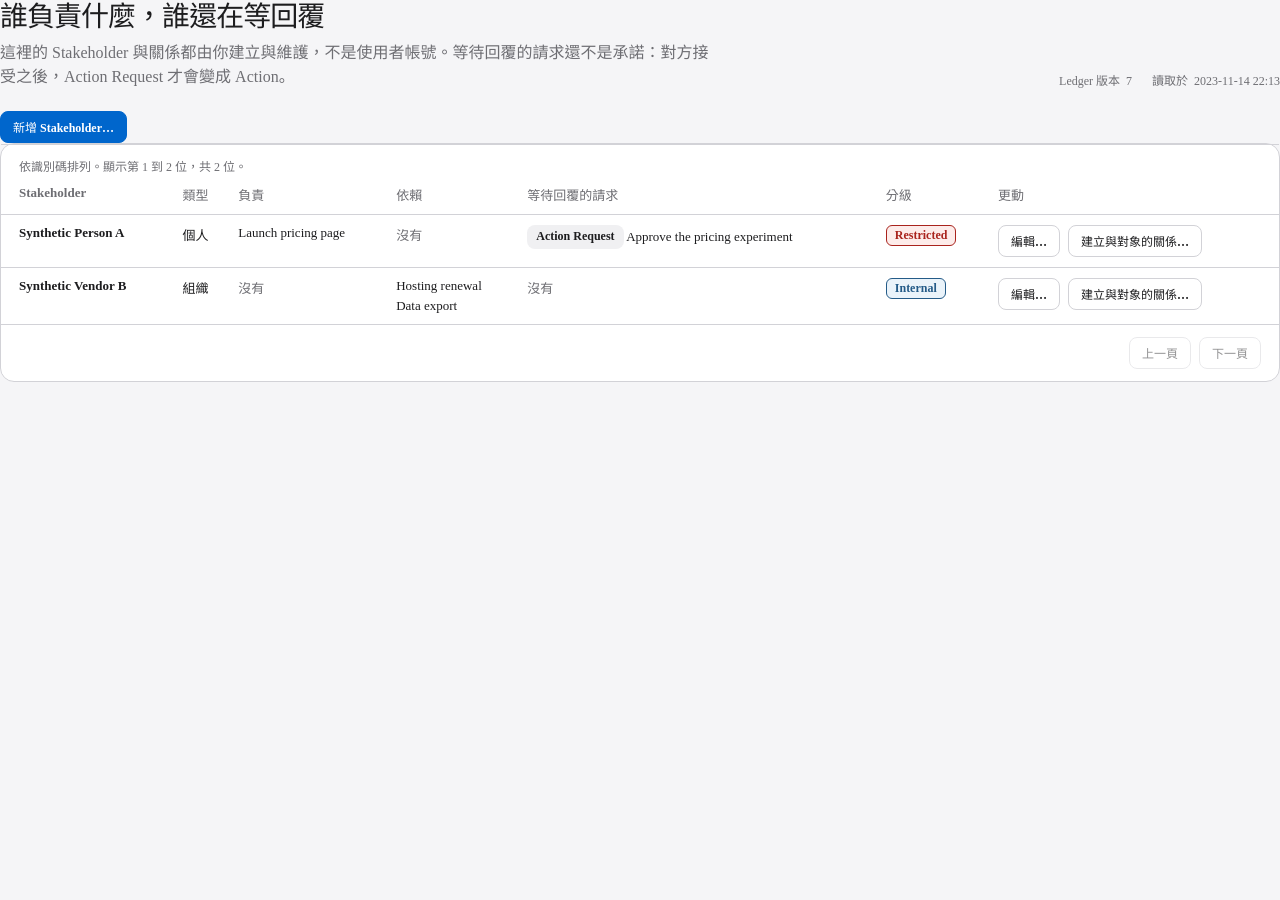
Test: People record entry (slice 6D) › relates a Stakeholder to a subject of a chosen kind at both versions
Check: the table is shown, box [1,145,1279,324]
Click the button "建立與對象的關係…" in the row of "Synthetic Person A". click: (1135, 241)
box: [1068,225,1202,257]
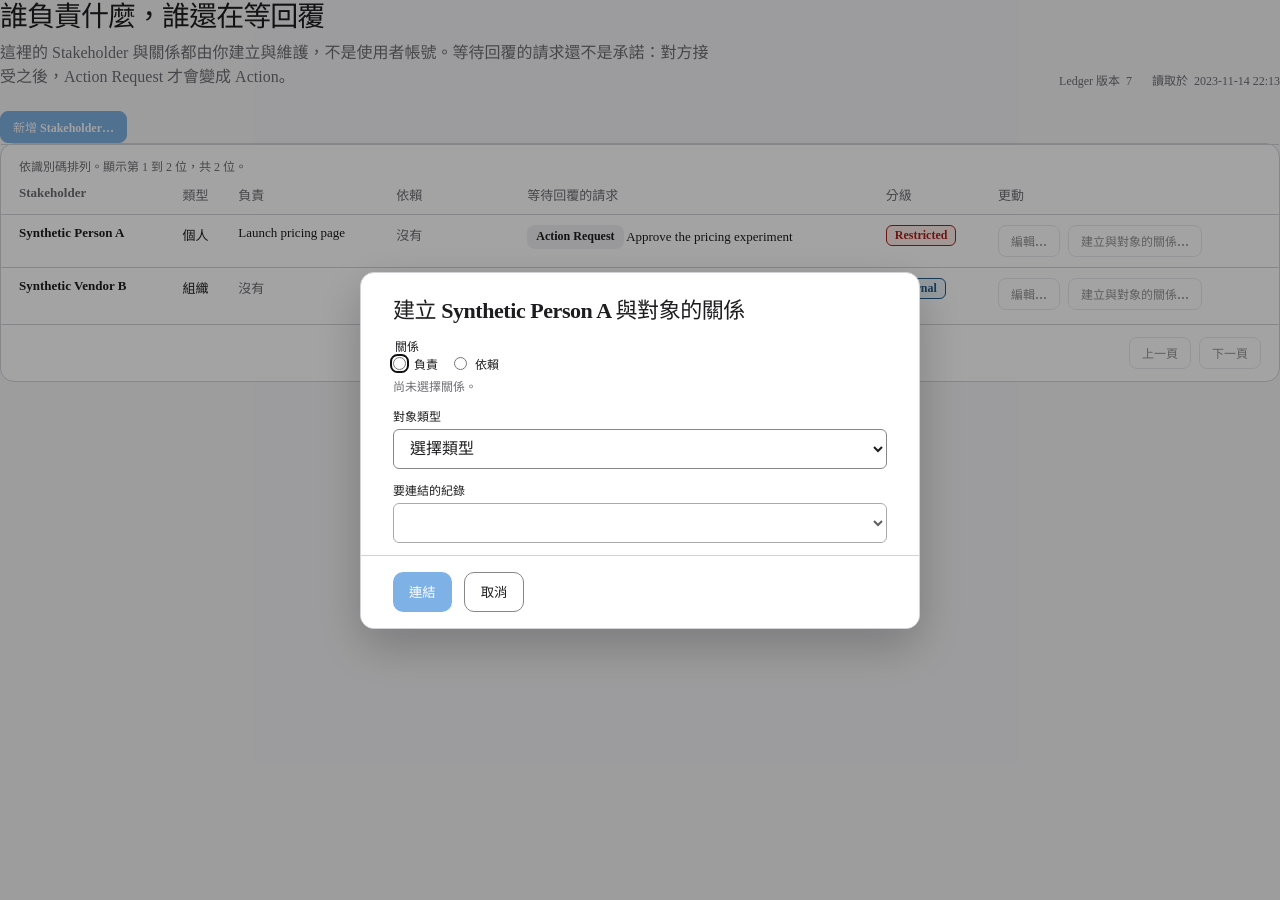
Check: the button "連結" is disabled, box [393,572,452,612]
Click the radio button labelled "依賴". click: (460, 364)
box: [454,357,467,370]
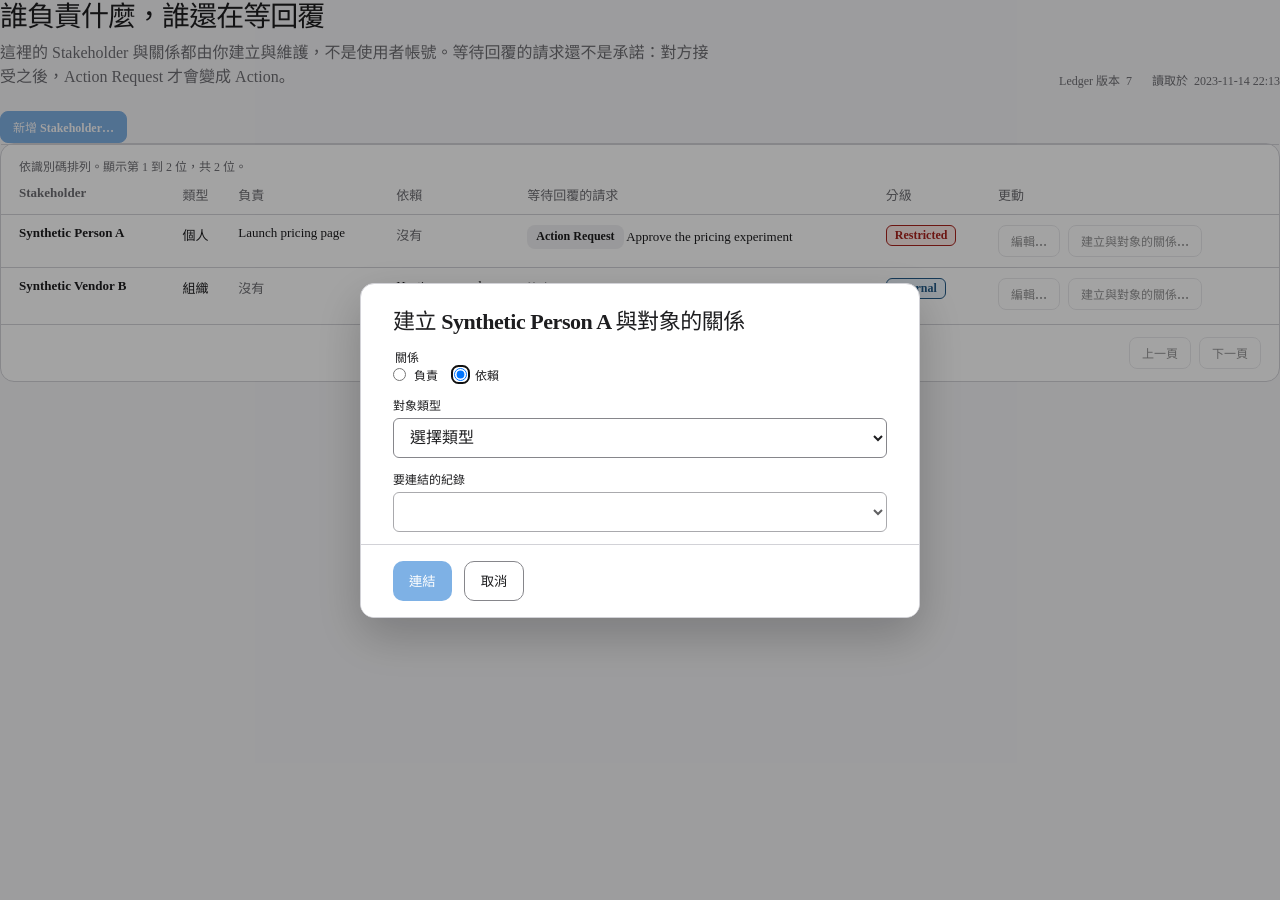
Select "Project" in the dropdown labelled "對象類型". click: (640, 438)
box: [393,418,887,458]
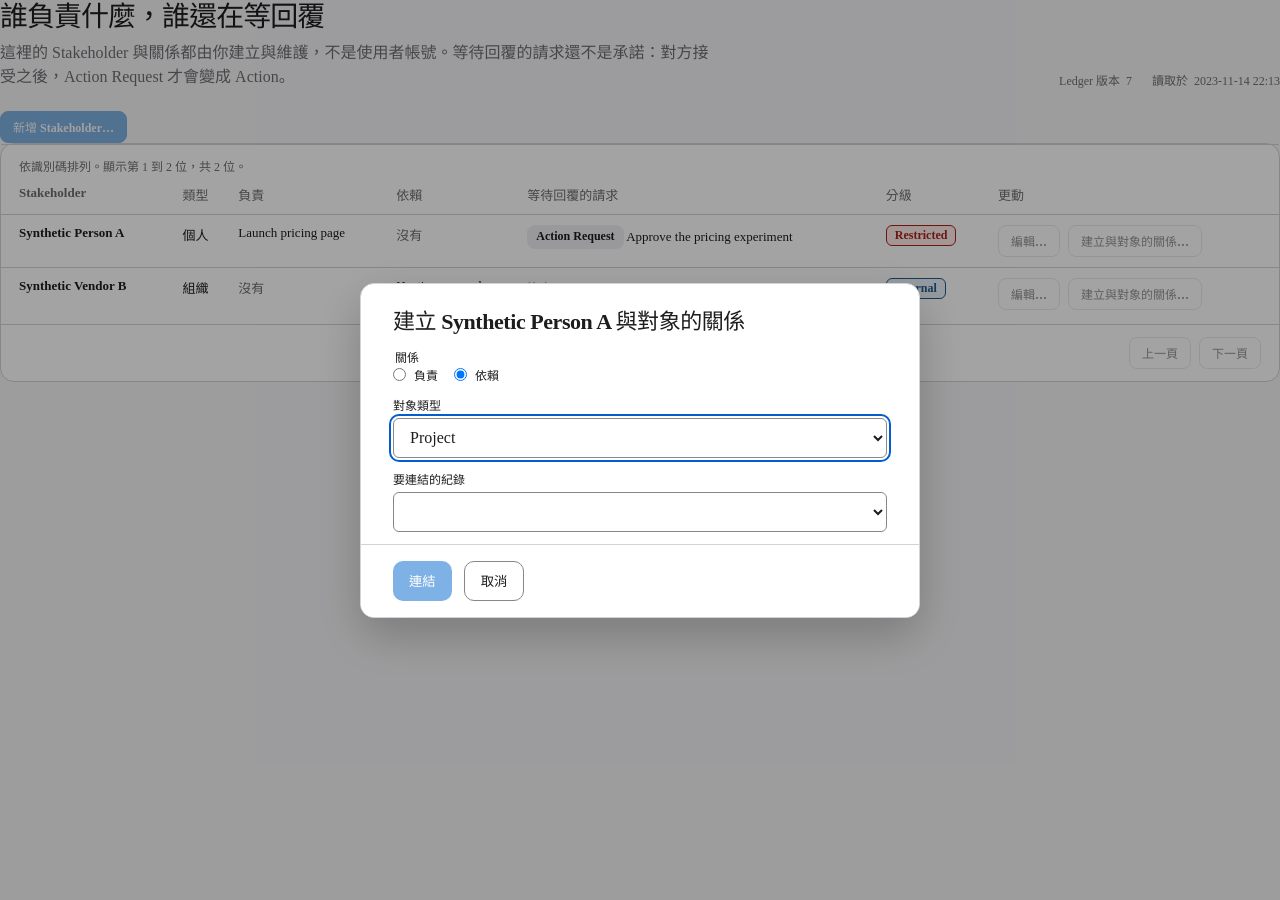
Select "Hosting migration（Internal，版本 5）" in the dropdown labelled "要連結的紀錄". click: (640, 512)
box: [393,492,887,532]
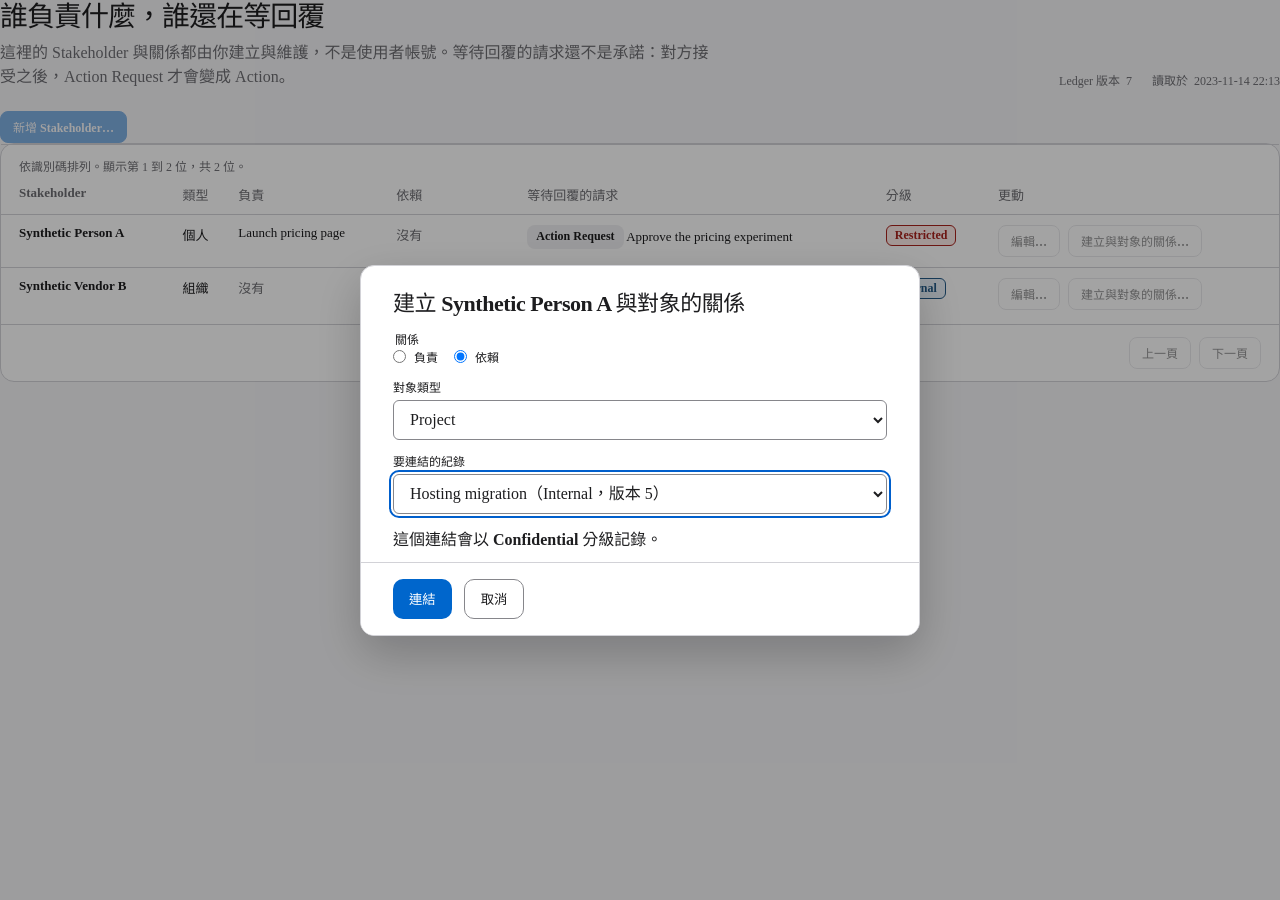
Check: the text "這個連結會以 Confidential 分級記錄。" is shown, box [393,530,662,548]
Click the button "連結". click: (422, 598)
box: [393,578,452,618]
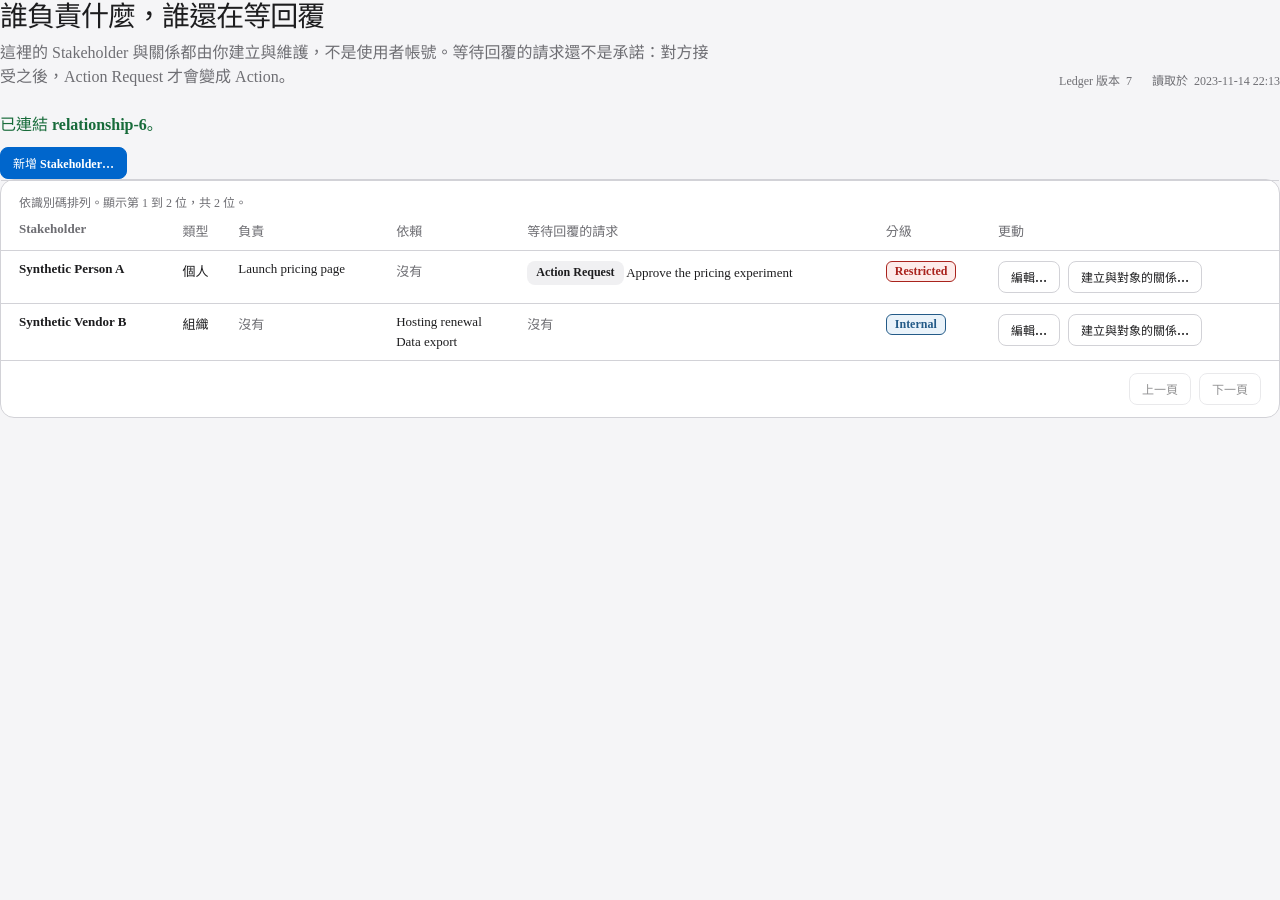
Check: the message reads "已連結 relationship-6。", box [0,116,163,133]
